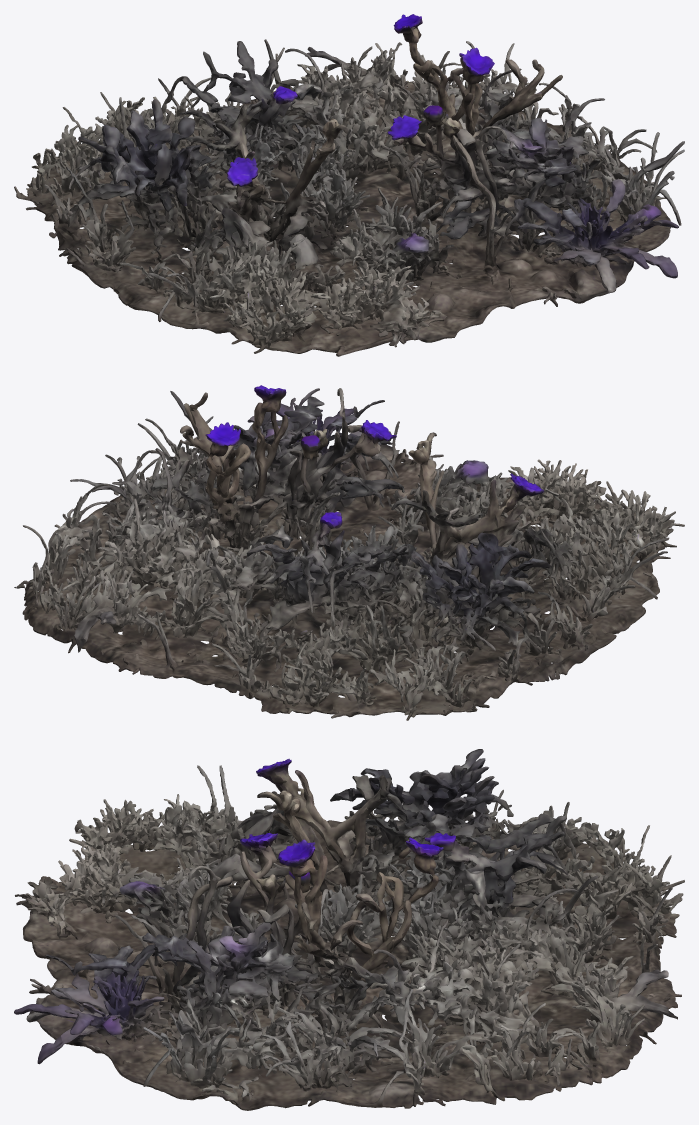
The model's file is toxic_weeds.glb.
3 renders of one model, top to bottom at view 1: azimuth 30°, elevation 25°; view 2: azimuth 150°, elevation 25°; view 3: azimuth 270°, elevation 25°, orthographic. The views are drawn at different scales.
Parts seen in each view (by area): view 1: world; view 2: world; view 3: world.
Part boxes in pixels (bbox=[...]): world: bbox=[14, 14, 684, 356]; world: bbox=[14, 385, 684, 720]; world: bbox=[14, 749, 684, 1110].
Size of the model in its own units: 0.32 by 0.0945 by 0.3148.
Materials: 1 (1 with a texture image).
